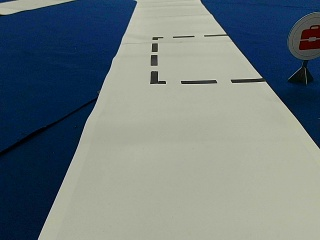company: (287, 12, 320, 58)
